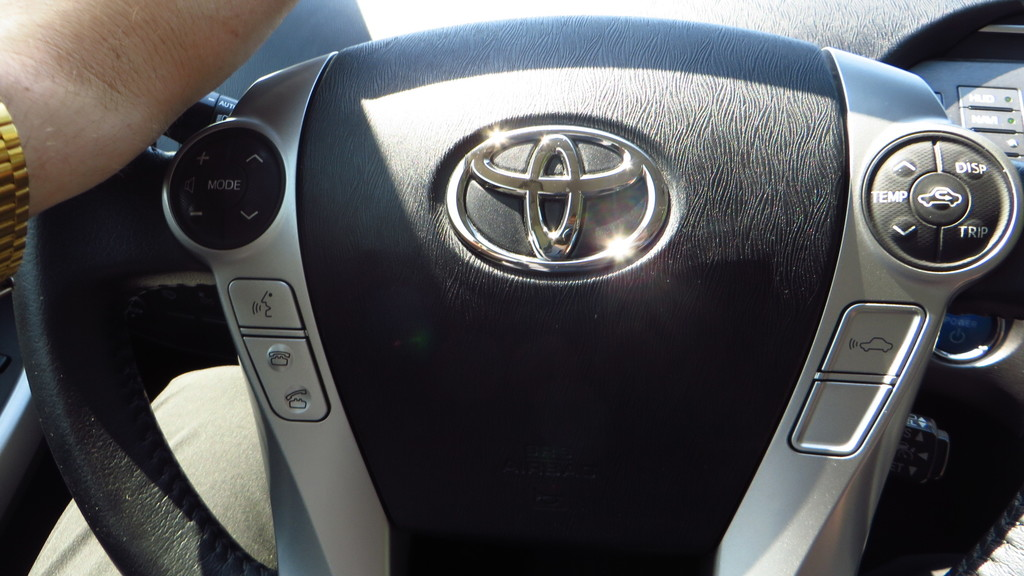Human_hand: (0, 0, 300, 220)
